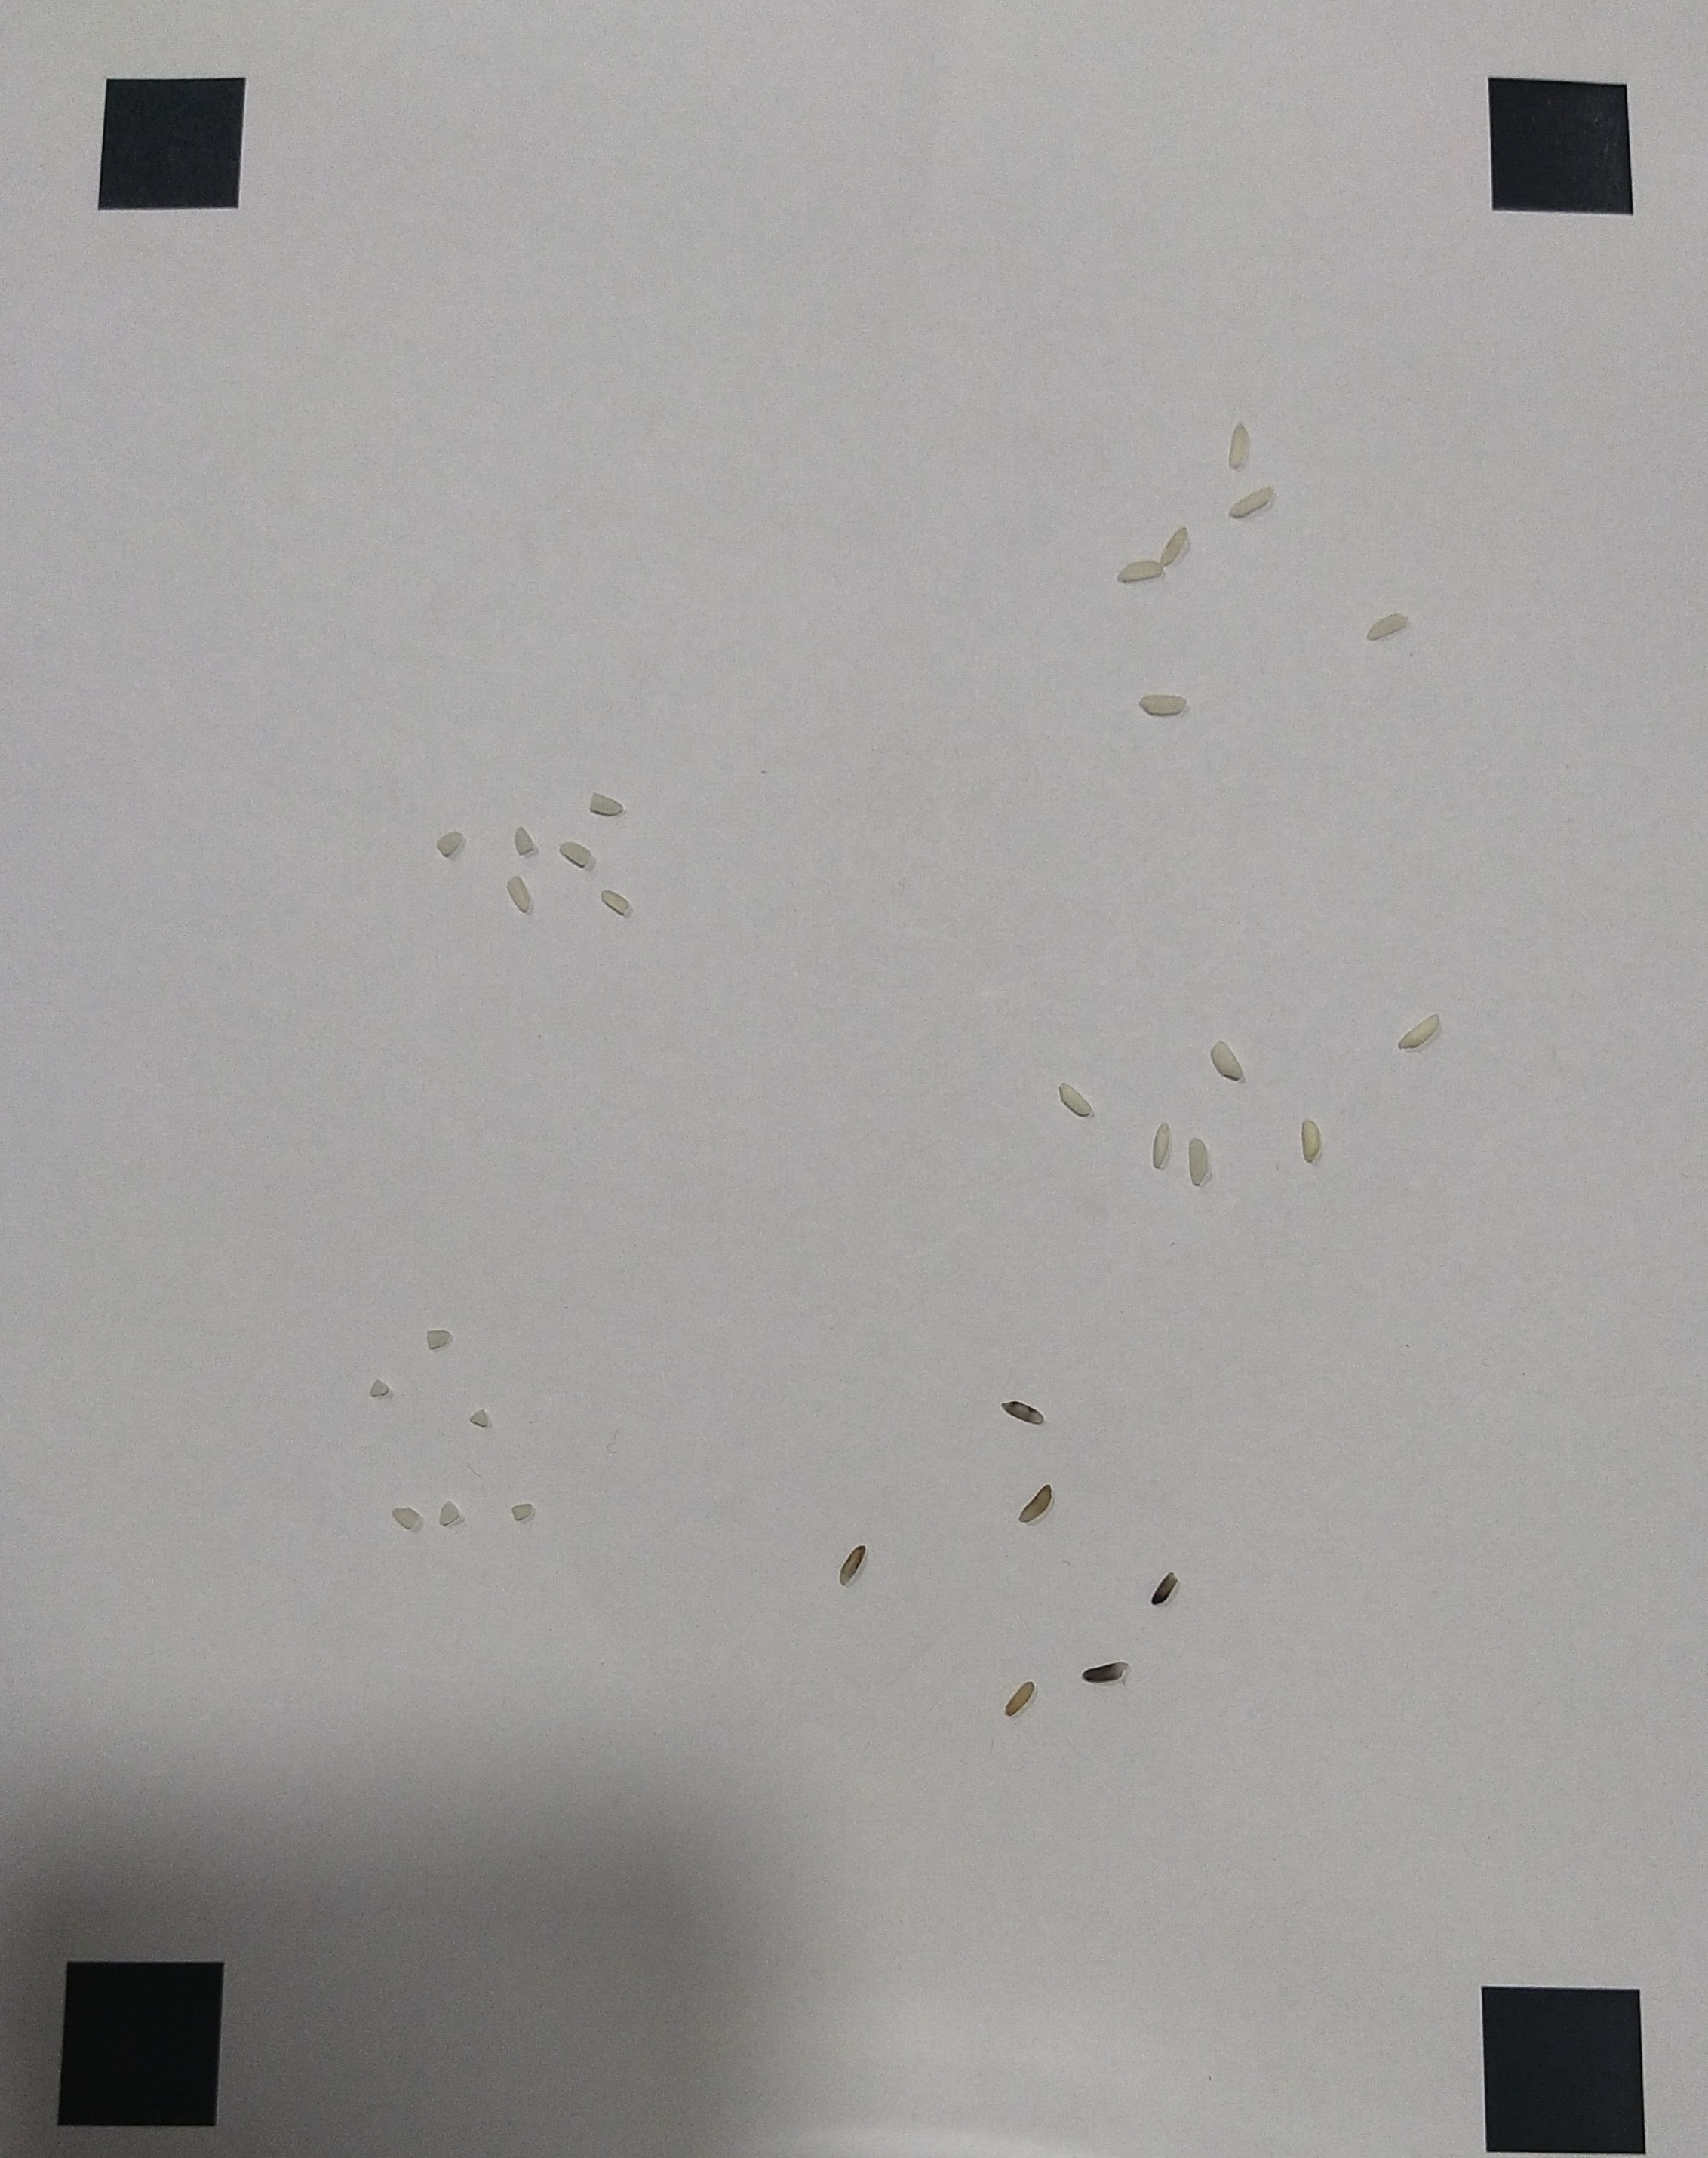broken: (438, 1499, 462, 1531), (392, 1503, 419, 1529), (424, 1328, 452, 1349), (469, 1407, 489, 1428), (512, 1503, 534, 1520), (370, 1379, 389, 1396)
chalky: (1210, 1040, 1246, 1084), (1398, 1014, 1440, 1049), (1058, 1081, 1093, 1119), (1188, 1139, 1209, 1188), (1300, 1118, 1319, 1161), (1153, 1121, 1168, 1168)
damage: (599, 888, 634, 918), (506, 876, 531, 911), (561, 841, 592, 865), (590, 793, 622, 818), (434, 830, 464, 855), (515, 827, 536, 855)
discolor: (1081, 1659, 1130, 1687), (999, 1401, 1046, 1428), (1004, 1682, 1037, 1718), (1020, 1485, 1053, 1522), (837, 1545, 867, 1585), (1149, 1573, 1179, 1608)
good: (1228, 489, 1275, 517), (1366, 611, 1407, 641), (1228, 420, 1251, 469), (1139, 694, 1188, 715), (1118, 561, 1163, 582), (1161, 529, 1189, 562)
